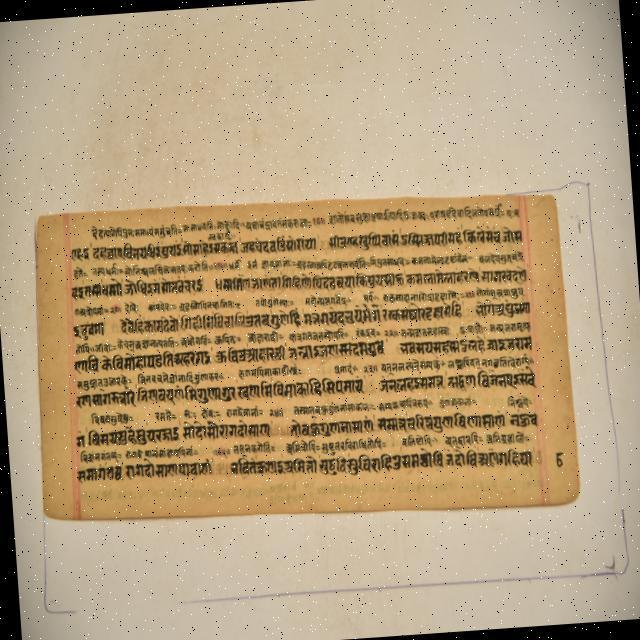text_paragraph: (33, 195, 576, 514)
